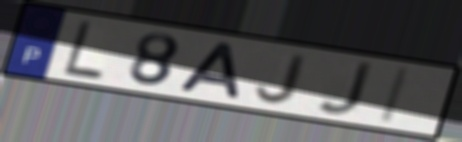8: (127, 32, 182, 88)
A: (175, 40, 243, 101)
I: (376, 65, 414, 127)
J: (314, 61, 377, 118), (253, 52, 312, 105)
L: (61, 18, 106, 83)
